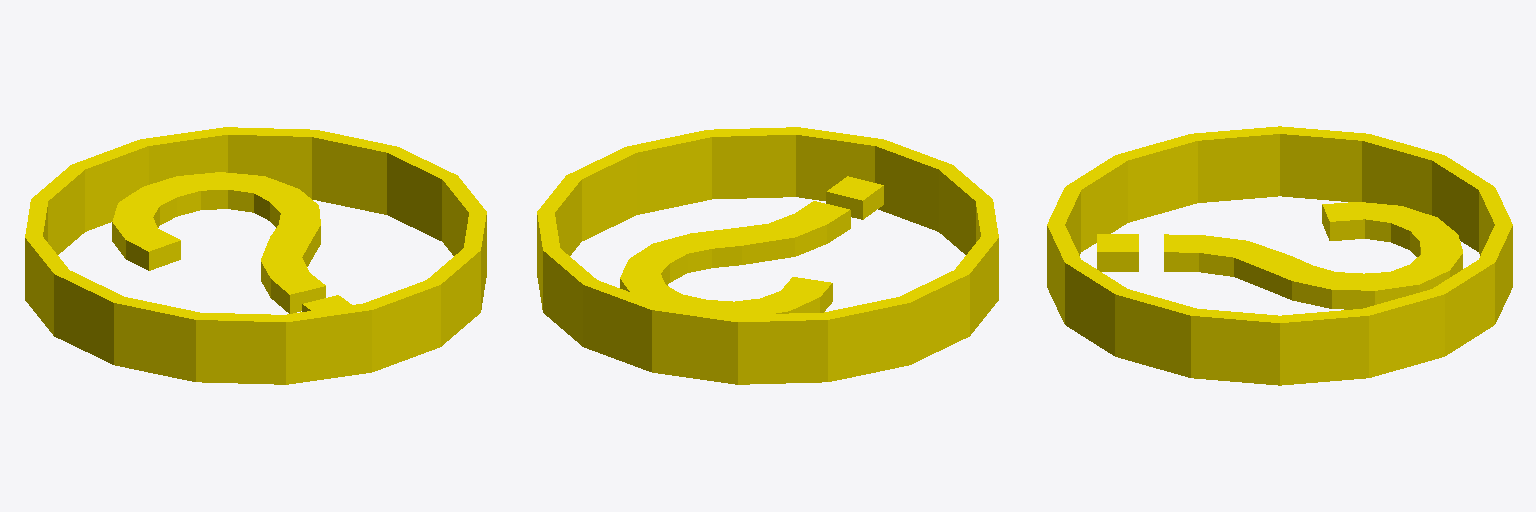
Rendered from IndiceJaune.obj.
3 views of the same model, side by side, from view 1: azimuth 30°, elevation 25°; view 2: azimuth 150°, elevation 25°; view 3: azimuth 270°, elevation 25° (orthographic).
Parts seen in each view (by area): view 1: IndiceSocleJa, IndiceInteroJa; view 2: IndiceSocleJa, IndiceInteroJa; view 3: IndiceSocleJa, IndiceInteroJa.
Boxes of the visible parts, x1=… form: IndiceSocleJa: x1=25, y1=127, x2=486, y2=384; IndiceInteroJa: x1=112, y1=172, x2=351, y2=313; IndiceSocleJa: x1=537, y1=127, x2=998, y2=384; IndiceInteroJa: x1=620, y1=176, x2=883, y2=314; IndiceSocleJa: x1=1047, y1=126, x2=1512, y2=385; IndiceInteroJa: x1=1097, y1=202, x2=1462, y2=309.
Size of the model in its own units: 231 by 34.21 by 231.